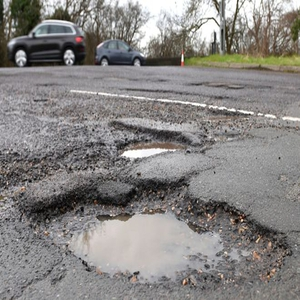pothole: (27, 180, 290, 294), (116, 125, 208, 163)
